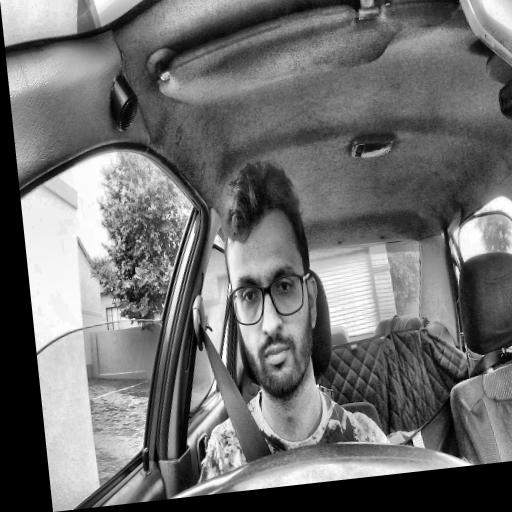awake: (215, 157, 328, 402)
